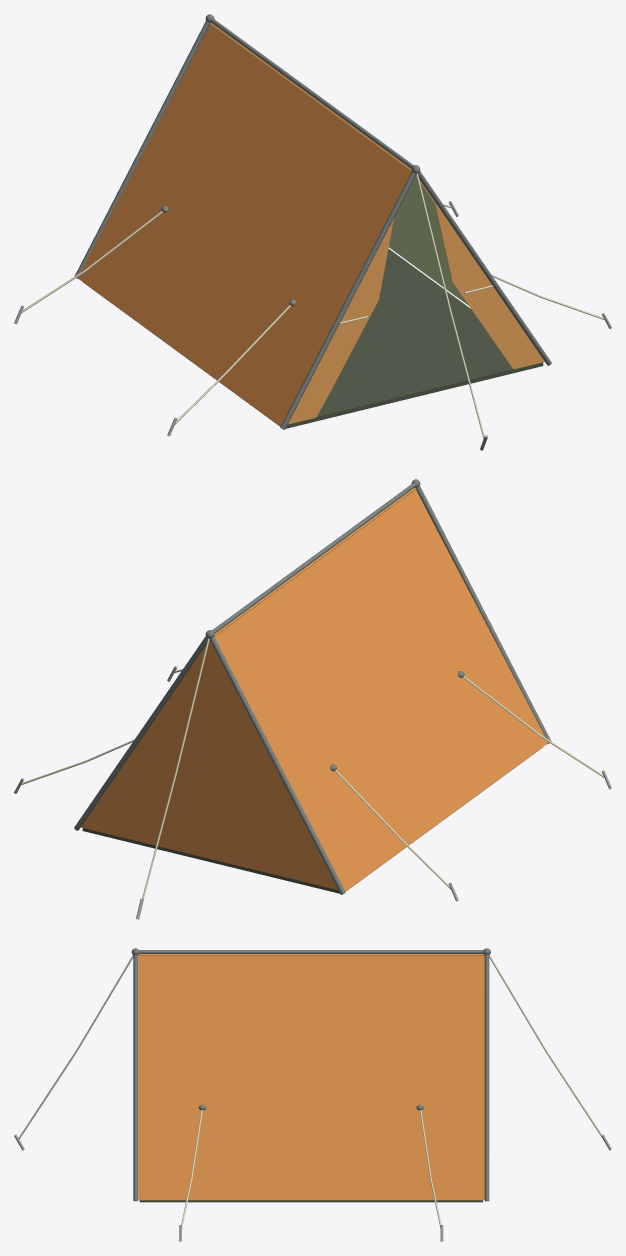
The model's file is camping_tent.glb.
3 renders of one model, top to bottom at view 1: azimuth 30°, elevation 25°; view 2: azimuth 150°, elevation 25°; view 3: azimuth 270°, elevation 25°, orthographic. The views are drawn at different scales.
Parts seen in each view (by area): view 1: Tent_Left_Thick_Roof_Canvas, Tent_Integral_Dark_Floor, Tent_Right_Tied_Back_Entrance_Flap, Tent_Right_Thick_Roof_Canvas, Tent_Left_Tied_Back_Entrance_Flap, Tent_Front_A_Frame_Pole_-1, Tent_Back_A_Frame_Pole_-1, Tent_Front_A_Frame_Pole_1, Tent_Connected_Ridge_Pole, Tent_Front_Ridge_Guy_Line; view 2: Tent_Left_Thick_Roof_Canvas, Tent_Closed_Back_Canvas, Tent_Back_A_Frame_Pole_-1, Tent_Front_A_Frame_Pole_-1, Tent_Back_A_Frame_Pole_1, Tent_Connected_Ridge_Pole, Tent_Integral_Dark_Floor, Tent_Back_Ridge_Guy_Line, Tent_Right_Thick_Roof_Canvas; view 3: Tent_Right_Thick_Roof_Canvas, Tent_Back_A_Frame_Pole_1, Tent_Connected_Ridge_Pole, Tent_Front_A_Frame_Pole_1, Tent_Integral_Dark_Floor, Tent_Left_Thick_Roof_Canvas, Tent_Front_Ridge_Guy_Line, Tent_Back_Ridge_Guy_Line.
Part boxes in pixels (x1,y1,x2,y2): Tent_Left_Thick_Roof_Canvas: (78,24,411,426); Tent_Integral_Dark_Floor: (83,248,543,428); Tent_Right_Tied_Back_Entrance_Flap: (425,188,544,369); Tent_Right_Thick_Roof_Canvas: (210,22,468,305); Tent_Left_Tied_Back_Entrance_Flap: (288,218,393,424); Tent_Front_A_Frame_Pole_-1: (280,171,416,429); Tent_Back_A_Frame_Pole_-1: (74,21,209,279); Tent_Front_A_Frame_Pole_1: (418,171,551,365); Tent_Connected_Ridge_Pole: (210,18,413,168); Tent_Front_Ridge_Guy_Line: (416,173,484,438); Tent_Left_Thick_Roof_Canvas: (214,489,547,891); Tent_Closed_Back_Canvas: (81,640,338,890); Tent_Back_A_Frame_Pole_-1: (209,636,345,894); Tent_Front_A_Frame_Pole_-1: (416,486,551,744); Tent_Back_A_Frame_Pole_1: (74,636,207,830); Tent_Connected_Ridge_Pole: (212,483,415,633); Tent_Integral_Dark_Floor: (82,747,542,893); Tent_Back_Ridge_Guy_Line: (142,638,209,899); Tent_Right_Thick_Roof_Canvas: (214,487,415,636); Tent_Right_Thick_Roof_Canvas: (138,956,484,1200); Tent_Back_A_Frame_Pole_1: (484,954,489,1201); Tent_Connected_Ridge_Pole: (139,950,483,953); Tent_Front_A_Frame_Pole_1: (133,954,137,1201); Tent_Integral_Dark_Floor: (139,1200,482,1202); Tent_Left_Thick_Roof_Canvas: (138,954,484,955); Tent_Front_Ridge_Guy_Line: (18,955,133,1139); Tent_Back_Ridge_Guy_Line: (489,955,602,1138).
Bounding box in the file's own units: 2.65 × 1.35 × 3.63.
